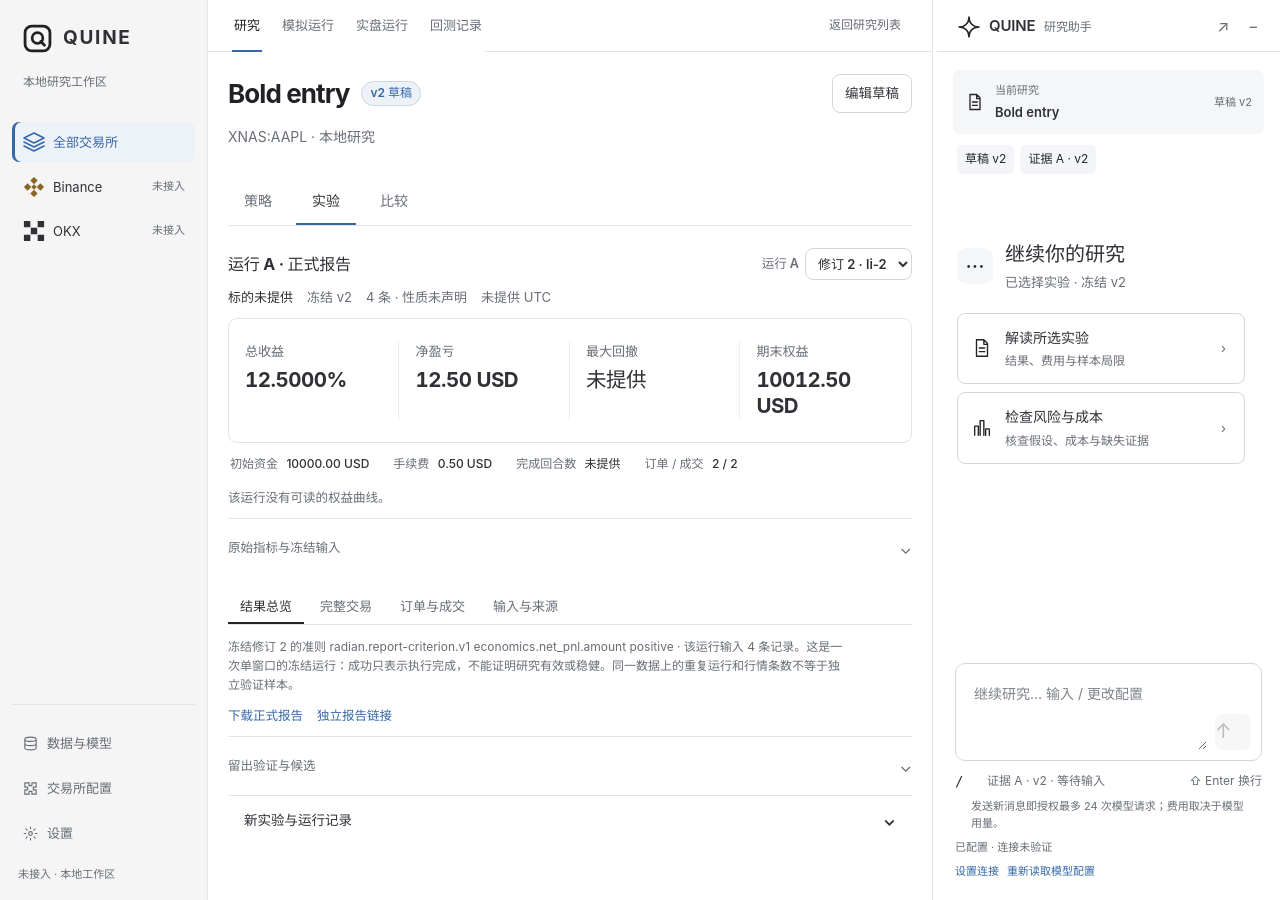
it: user strategy evidence comparison › refuses to difference amounts recorded in different currencies
Click the tab "比较" at (394, 202), box [364,179,424,225]
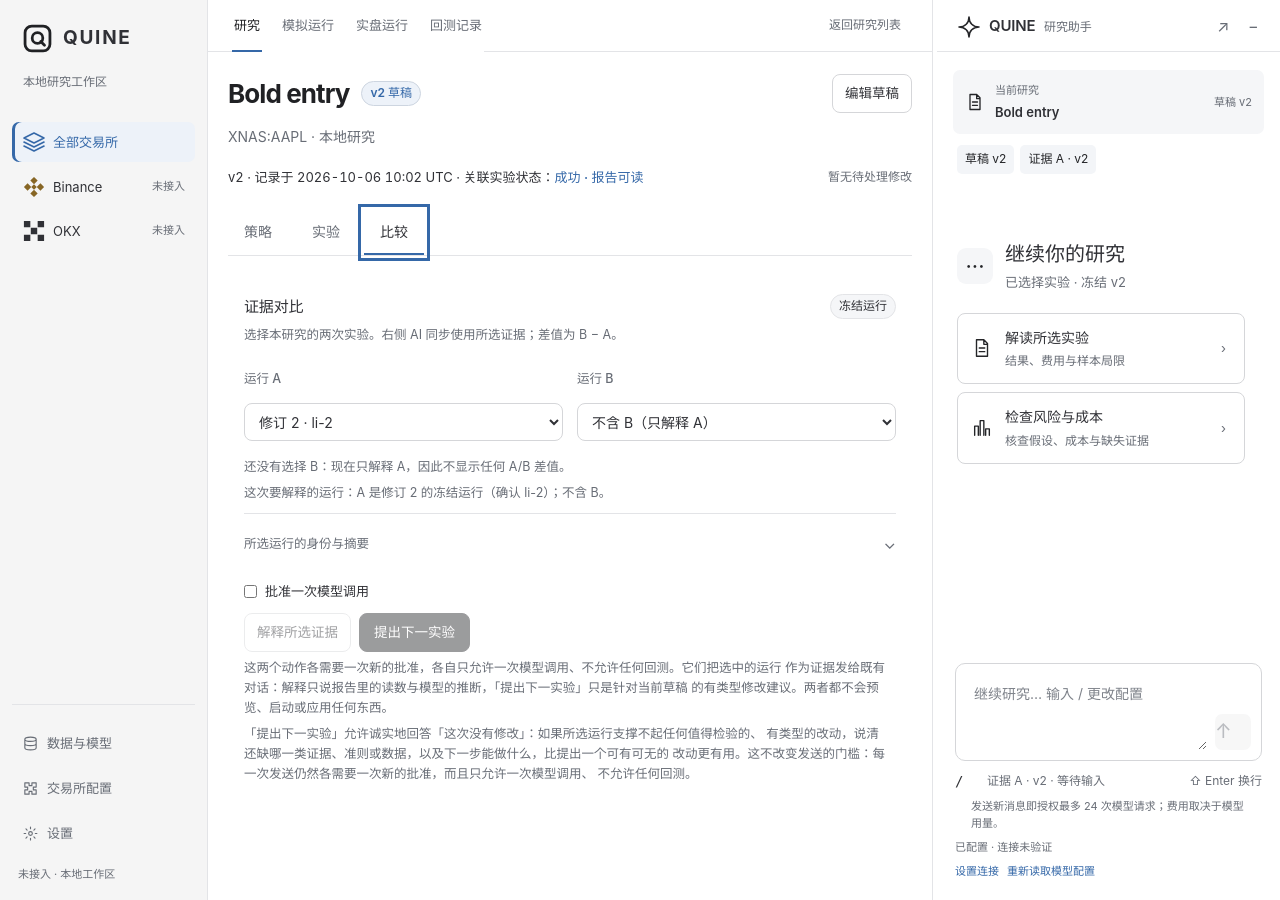
Select "修订 1 · li-1" in the dropdown labelled "运行 B" at (736, 422), box [577,403,896,441]
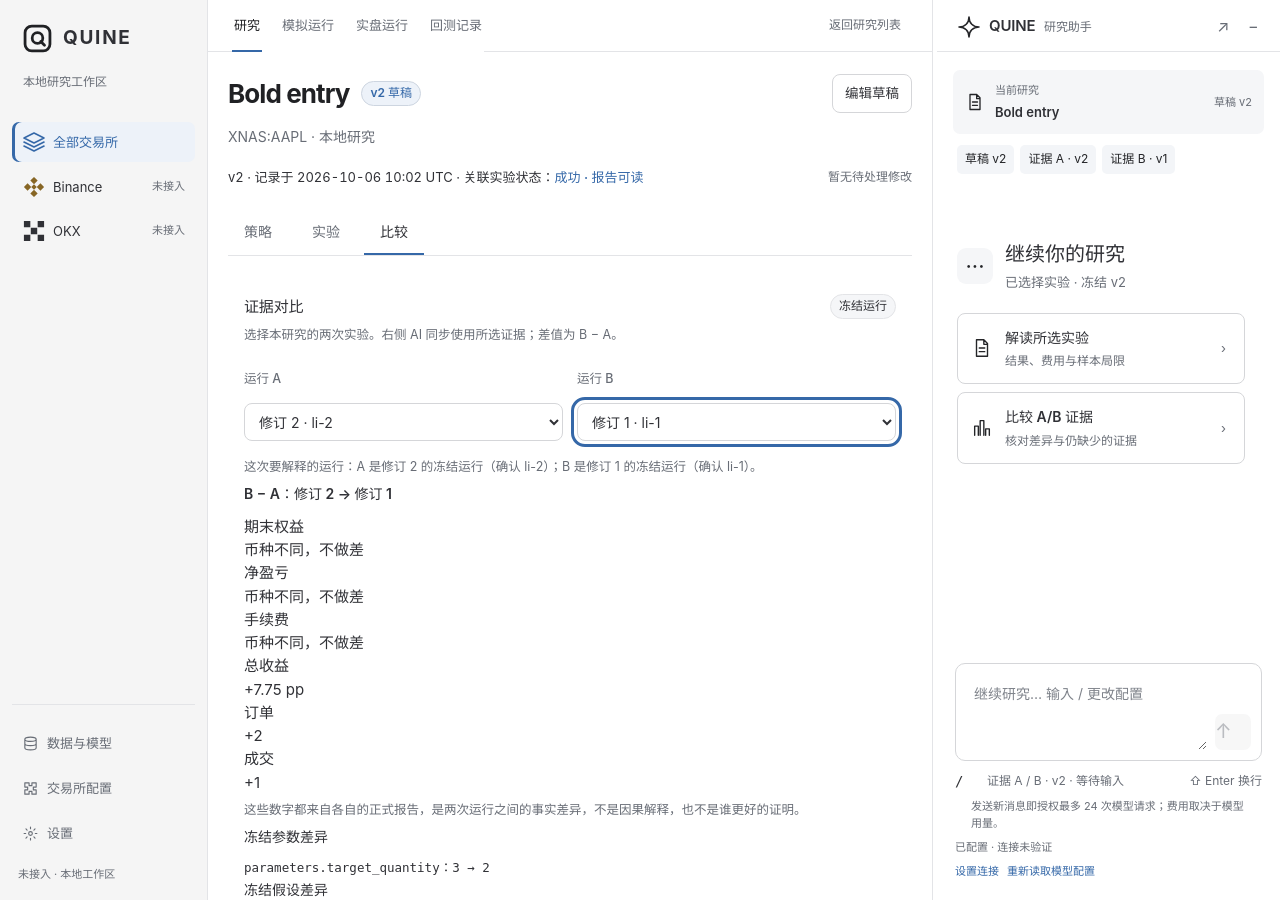
Check: the text "币种不同，不做差" is shown 3 times, box [244,540,364,559]; [244,587,364,606]; [244,633,364,652]
